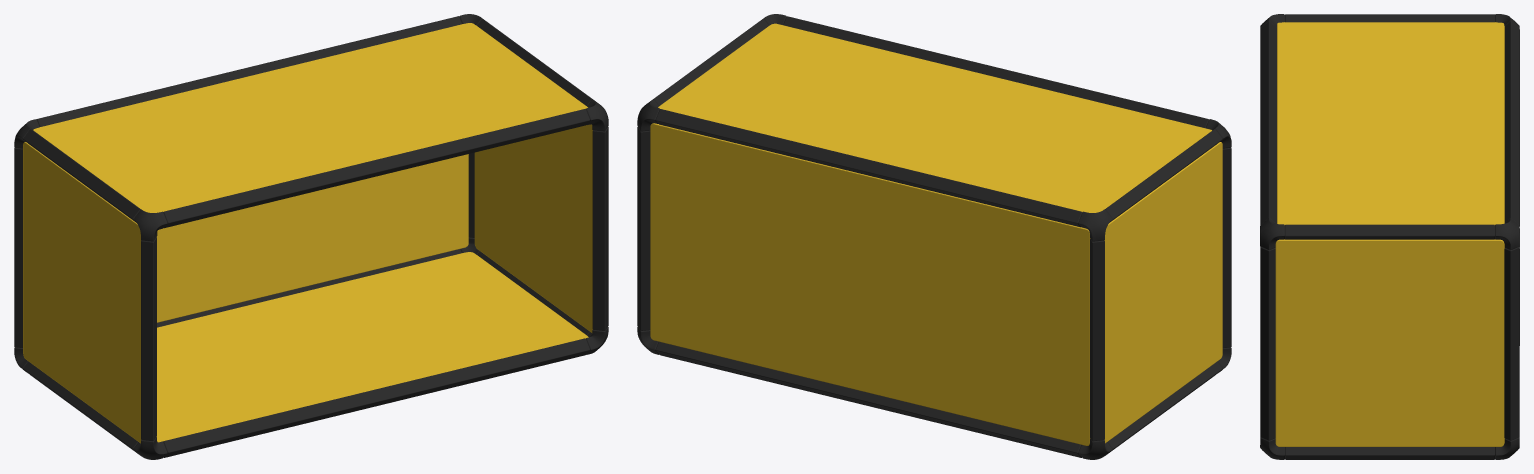
3 views of the same model, side by side, from view 1: azimuth 30°, elevation 25°; view 2: azimuth 150°, elevation 25°; view 3: azimuth 270°, elevation 25° (orthographic). The views are drawn at different scales.
Visible parts, largest first — view 1: 729x329x329; view 2: 729x329x329; view 3: 729x329x329.
Boxes of the visible parts, x1,y1,x2,y2 form: 729x329x329: (14,14,608,459); 729x329x329: (637,14,1231,459); 729x329x329: (1260,14,1519,459).
Size of the model in its own units: 0.8067 by 0.4067 by 0.4063.
